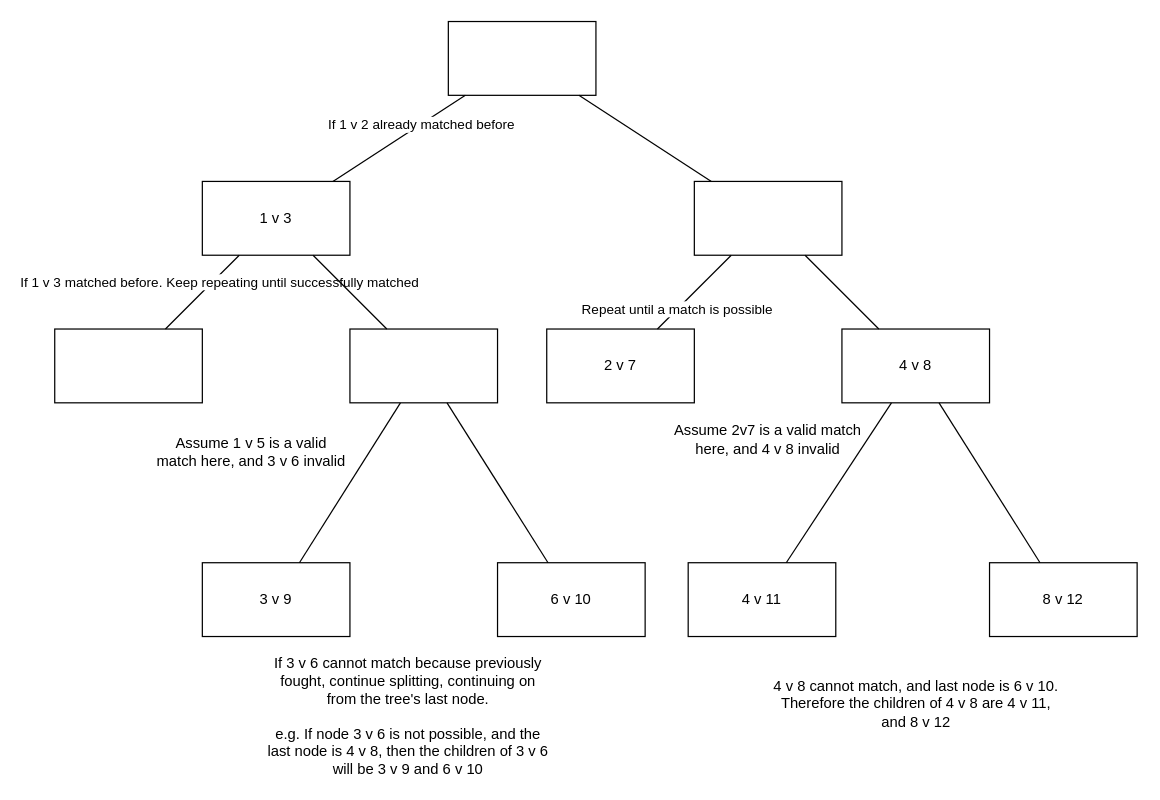
The diagram is 1160 pixels wide and 800 high, and some of its shapes have lost their labels. The centre of each missing label's shape, as x and y in pixels:
"1 v 2" goes at (521,57).
"1 v 5" goes at (128,365).
"2 v 4" goes at (767,217).
"3 v 6" goes at (423,365).
